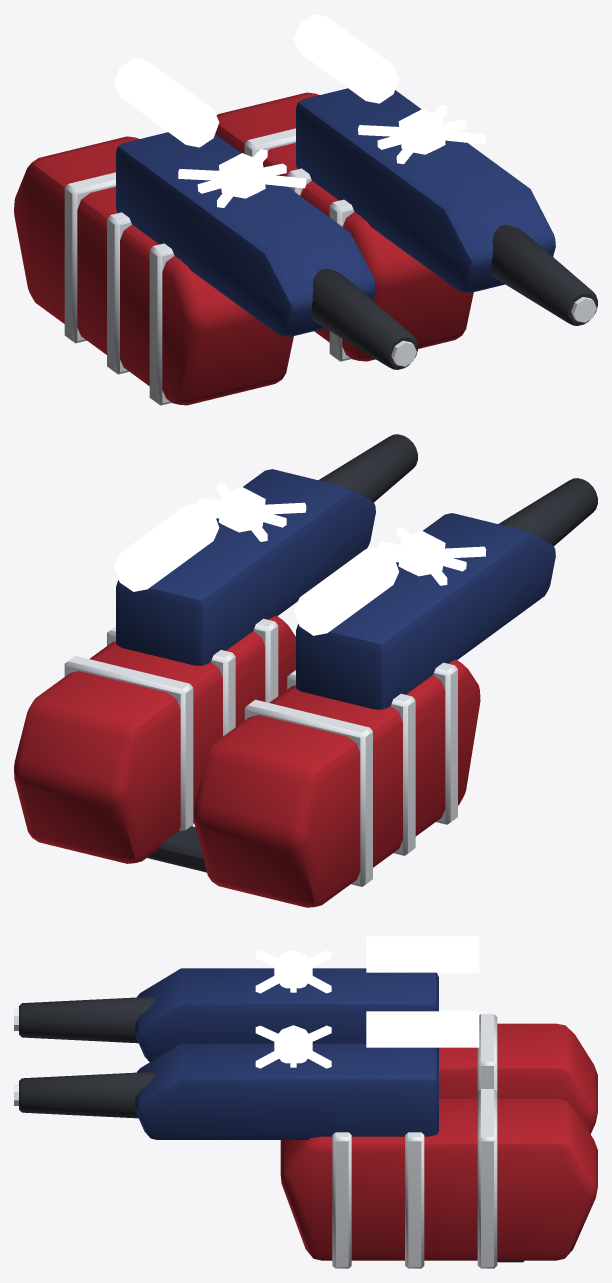
The model's file is web_shooters.glb.
3 renders of one model, top to bottom at view 1: azimuth 30°, elevation 25°; view 2: azimuth 150°, elevation 25°; view 3: azimuth 270°, elevation 25°, orthographic. The views are drawn at different scales.
Visible parts, largest first — view 1: mythic_web_bodyL, mythic_web_bodyR, mythic_web_cartridge, mythic_web_emblem; view 2: mythic_web_bodyL, mythic_web_bodyR, mythic_web_cartridge, mythic_web_emblem, mythic_web_strap; view 3: mythic_web_bodyR, mythic_web_bodyL, mythic_web_cartridge, mythic_web_emblem.
Part boxes in pixels (x1,y1,x2,y2): mythic_web_bodyL: (14, 132, 417, 405); mythic_web_bodyR: (215, 88, 597, 361); mythic_web_cartridge: (114, 14, 398, 147); mythic_web_emblem: (178, 105, 485, 207); mythic_web_bodyL: (194, 478, 597, 907); mythic_web_bodyR: (14, 434, 417, 863); mythic_web_cartridge: (114, 502, 398, 635); mythic_web_emblem: (197, 483, 486, 585); mythic_web_strap: (147, 826, 206, 872); mythic_web_bodyR: (14, 1043, 597, 1268); mythic_web_bodyL: (14, 968, 597, 1134); mythic_web_cartridge: (366, 936, 479, 1047); mythic_web_emblem: (255, 950, 331, 1068).
Size of the model in its own units: 0.184 by 0.163 by 0.3614.
